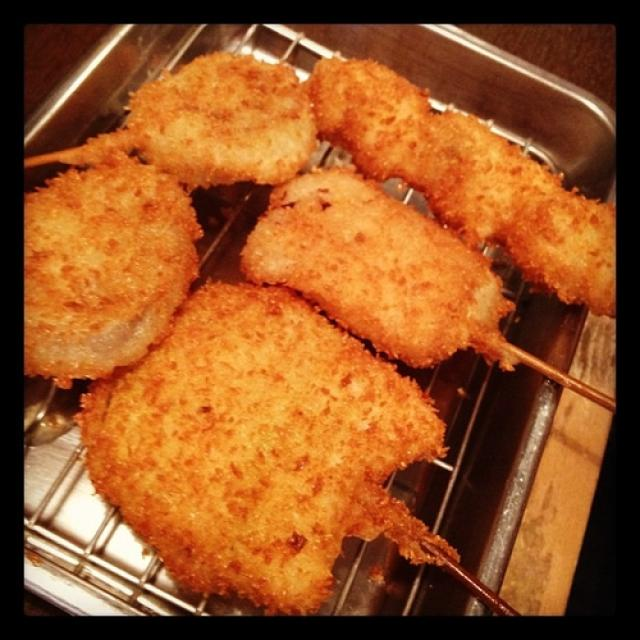汉堡快餐: (302, 223, 565, 512)
炸货点心: (38, 235, 315, 586)
